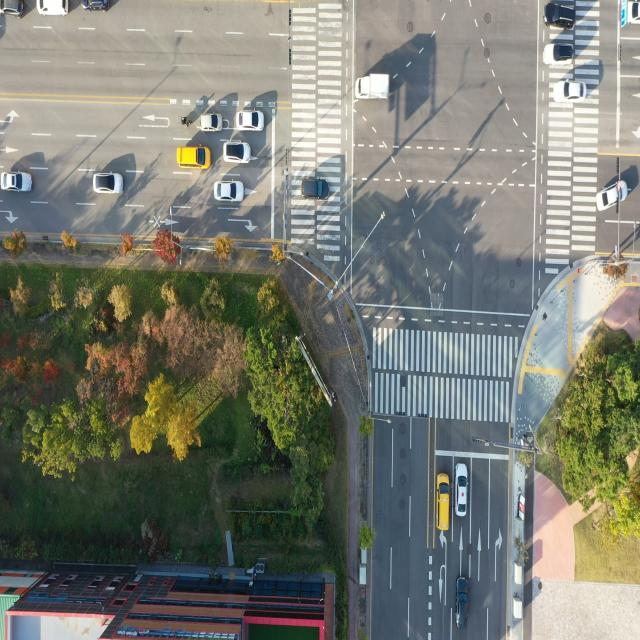car: (595, 174, 628, 216), (541, 38, 577, 68), (542, 0, 578, 30), (176, 144, 212, 170), (436, 470, 450, 530), (236, 108, 268, 133), (456, 465, 470, 521), (456, 577, 470, 632), (215, 180, 245, 204), (454, 462, 468, 513), (0, 171, 31, 194), (92, 173, 124, 195), (554, 81, 586, 102), (457, 577, 470, 625), (224, 140, 251, 163), (36, 0, 72, 17), (302, 178, 329, 200), (0, 0, 25, 19), (199, 113, 222, 133), (79, 0, 109, 15)
small_truck: (355, 72, 389, 104)
